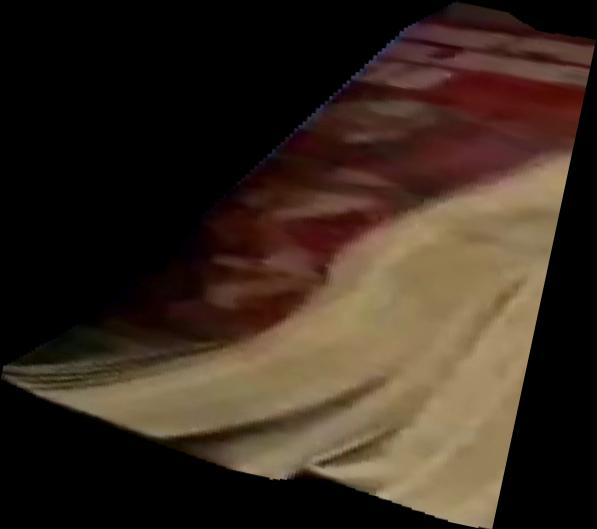backward: (1, 1, 597, 529)
